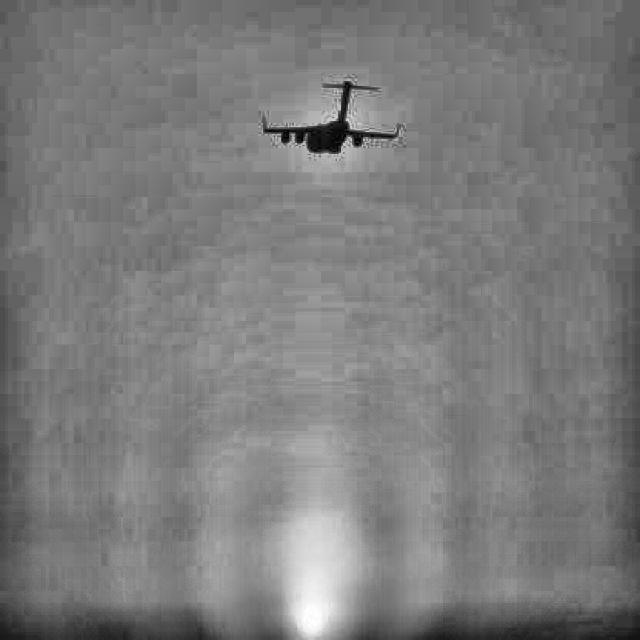C17: (263, 79, 400, 153)
